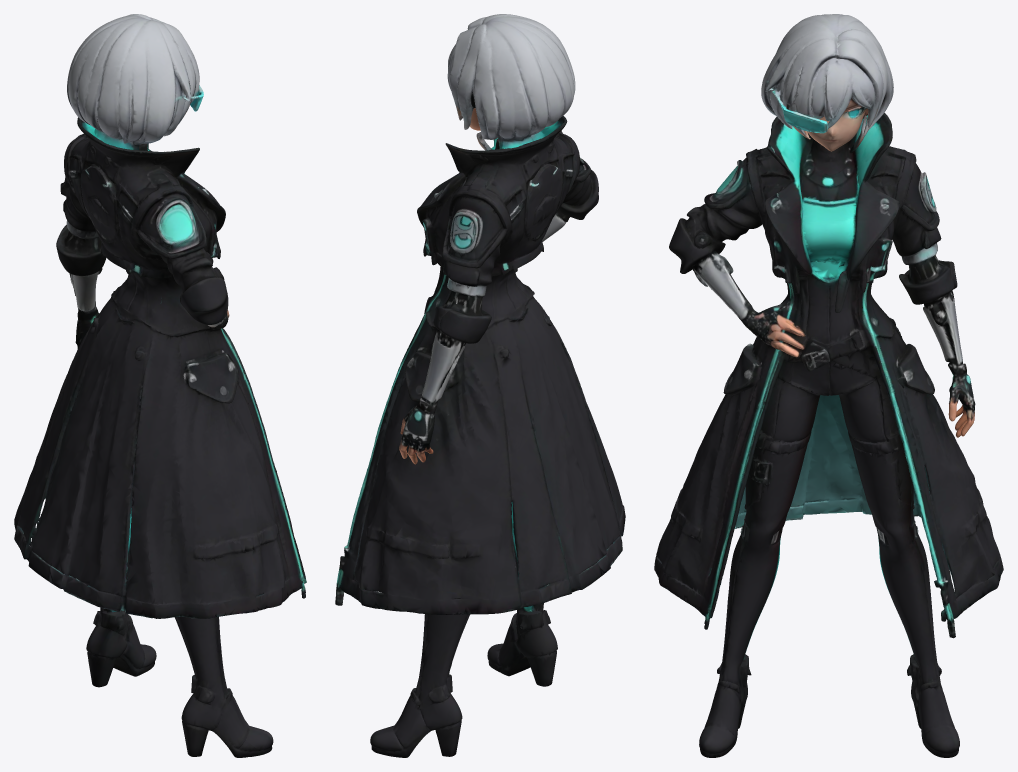
The model's file is rin-opt.glb.
The picture shows the model from 3 angles, left to right: view 1: azimuth 30°, elevation 25°; view 2: azimuth 150°, elevation 25°; view 3: azimuth 270°, elevation 25°; orthographic projection.
Parts seen in each view (by area): view 1: tripo_node_41a9203a-c955-46c6-80d2-77a258f02295; view 2: tripo_node_41a9203a-c955-46c6-80d2-77a258f02295; view 3: tripo_node_41a9203a-c955-46c6-80d2-77a258f02295.
Boxes of the visible parts, x1=… form: tripo_node_41a9203a-c955-46c6-80d2-77a258f02295: x1=14, y1=14, x2=306, y2=757; tripo_node_41a9203a-c955-46c6-80d2-77a258f02295: x1=335, y1=14, x2=625, y2=757; tripo_node_41a9203a-c955-46c6-80d2-77a258f02295: x1=654, y1=14, x2=1003, y2=757.
Bounding box in the file's own units: 0.3013 × 0.9996 × 0.4512.
1 material, 1 textured.
